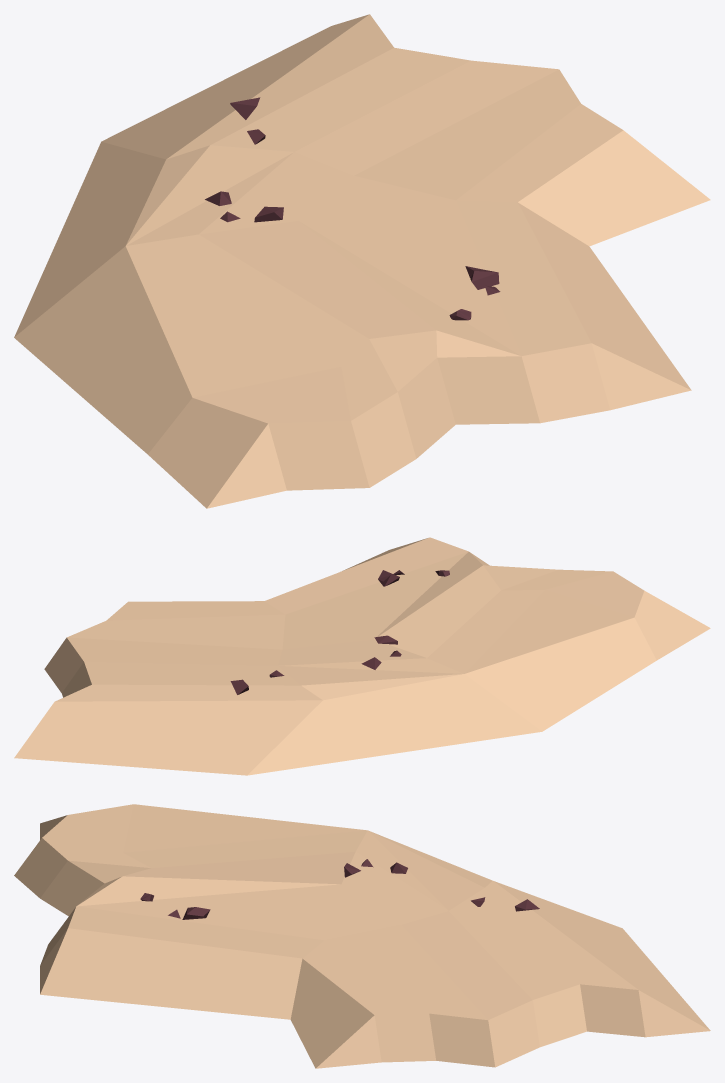
The model's file is SM_Road_Corner_Middle_Empire.fbx.
3 renders of one model, top to bottom at view 1: azimuth 30°, elevation 25°; view 2: azimuth 150°, elevation 25°; view 3: azimuth 270°, elevation 25°, orthographic. The views are drawn at different scales.
Visible parts, largest first — view 1: SM_Road_Corner_Middle_Empire; view 2: SM_Road_Corner_Middle_Empire; view 3: SM_Road_Corner_Middle_Empire.
Boxes of the visible parts, x1,y1,x2,y2 form: SM_Road_Corner_Middle_Empire: [14, 14, 710, 508]; SM_Road_Corner_Middle_Empire: [14, 537, 710, 775]; SM_Road_Corner_Middle_Empire: [14, 804, 710, 1068].
Size of the model in its own units: 6.44 by 0.6785 by 7.73.
